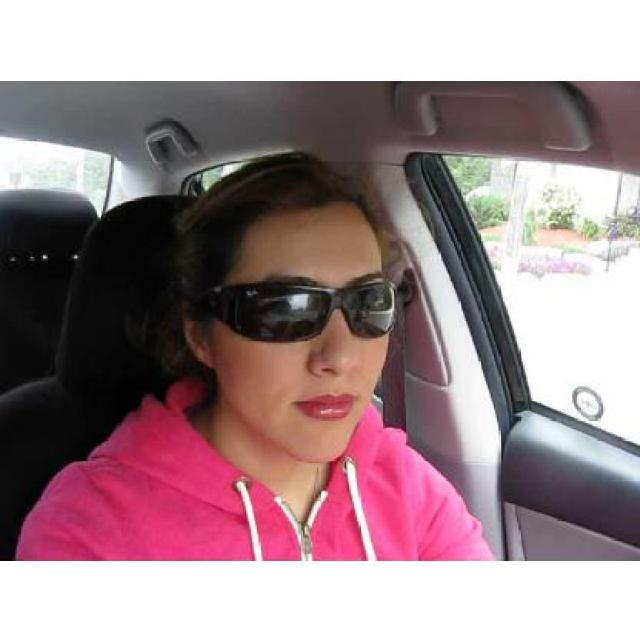attentif: (182, 150, 396, 462)
